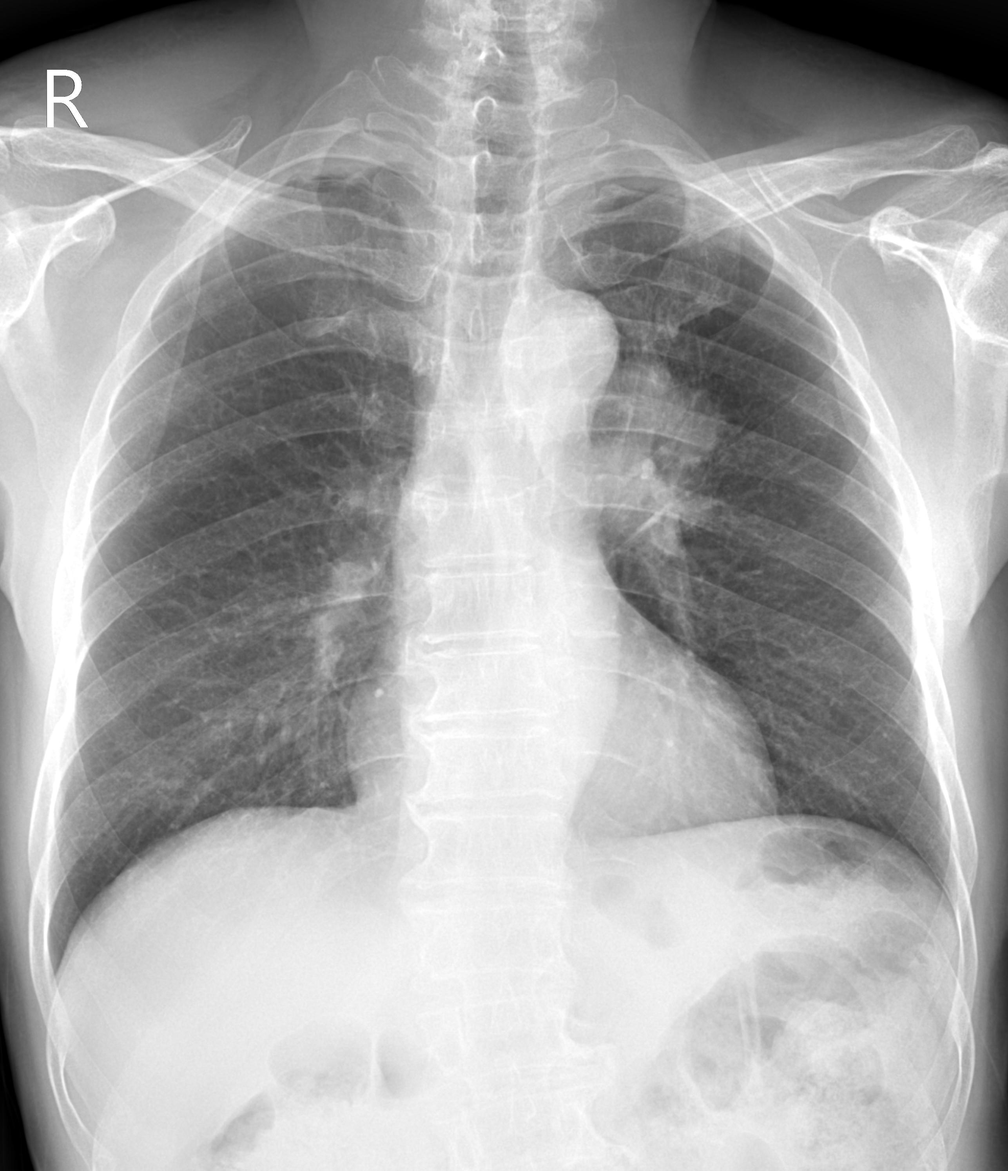Aortic enlargement: (497, 281, 627, 424)
Pleural thickening: (247, 158, 392, 185), (580, 169, 698, 199)
